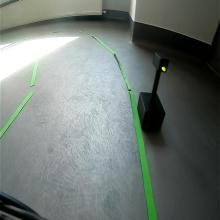green: (153, 50, 169, 72)
